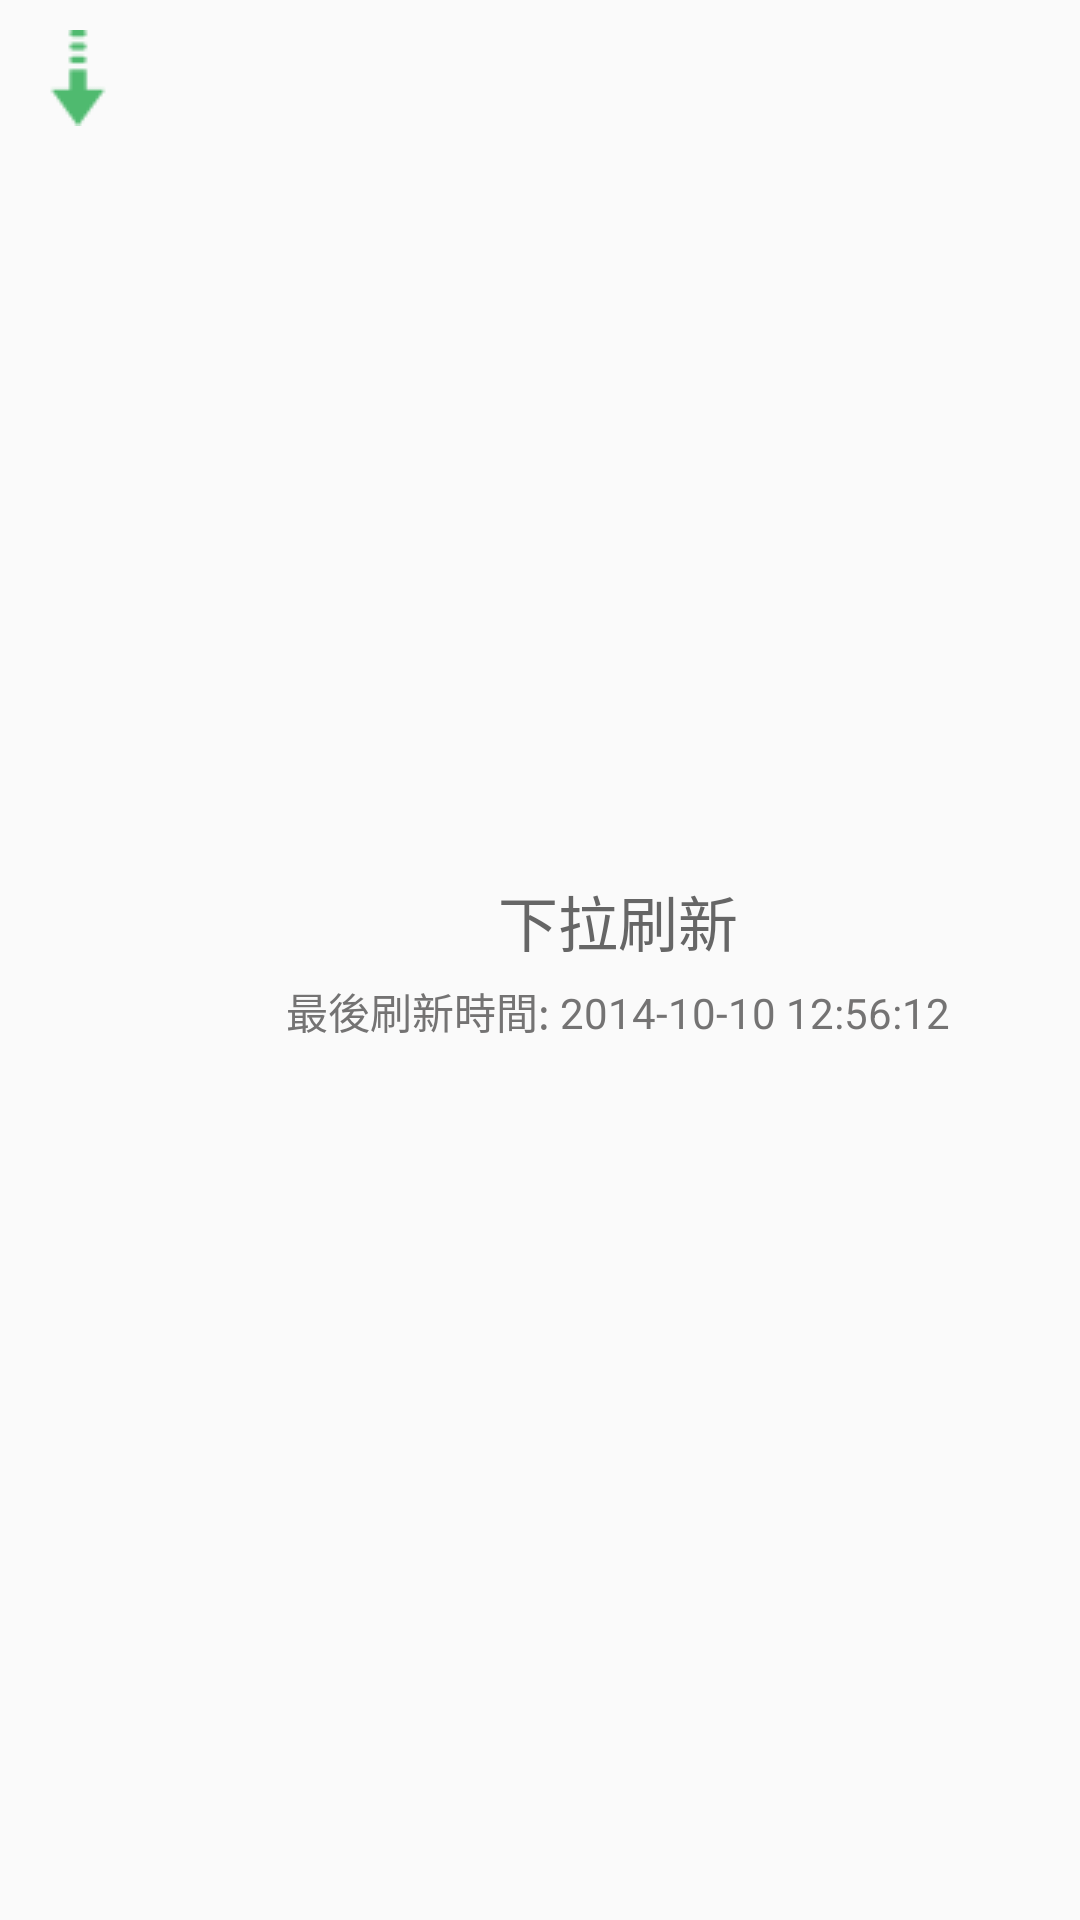

Icon bounding boxes for this 1080×1920 phone screenshot, format (x1, y1, x2, y2):
down arrow: (51, 30, 105, 126)
